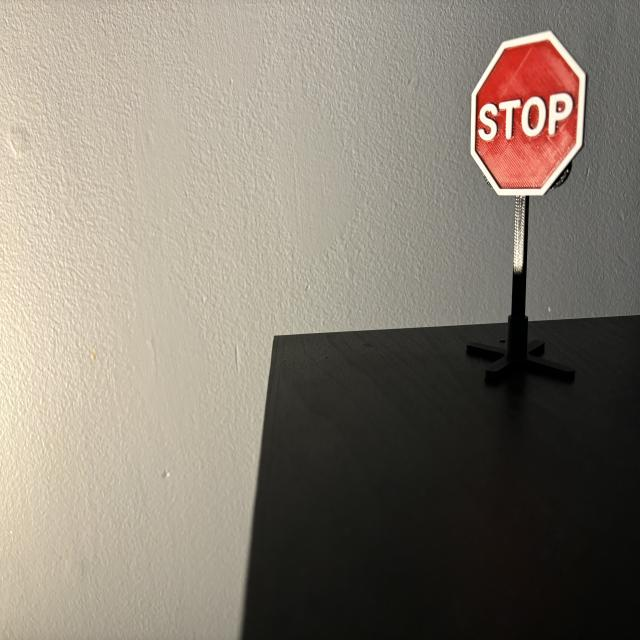sign_stop: (471, 31, 586, 197)
